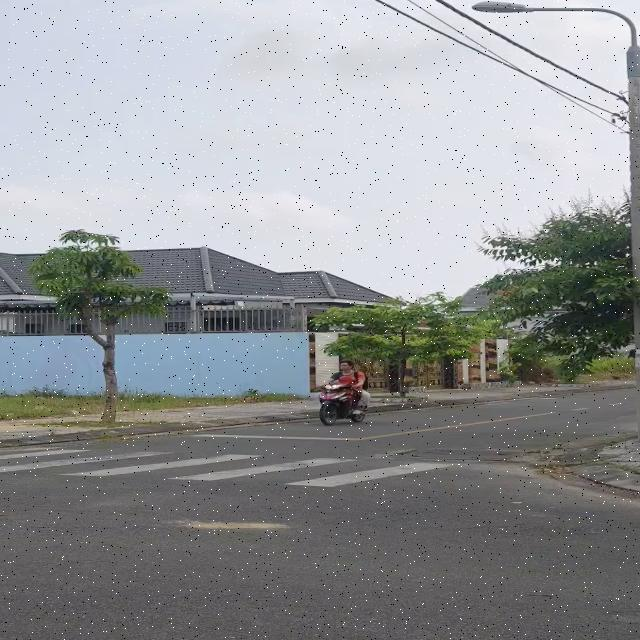no_helmet: (334, 359, 354, 372)
